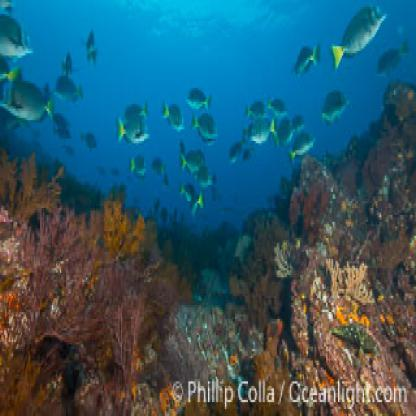Acanthuridae -Surgeonfishes-: (328, 1, 386, 64), (5, 77, 55, 126), (295, 41, 327, 87), (161, 94, 187, 138)
